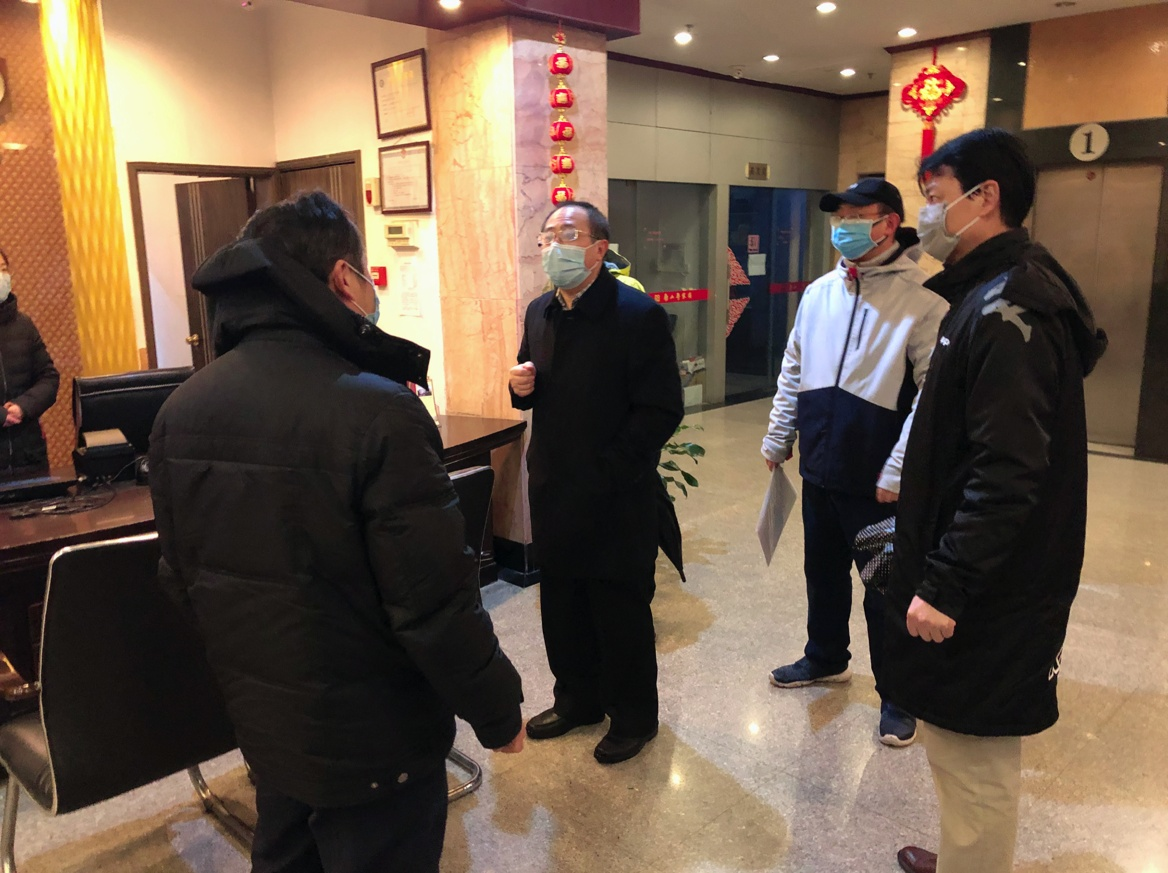correctlyWear: (918, 172, 1005, 260), (308, 237, 381, 336), (537, 216, 611, 293), (821, 204, 901, 262), (1, 261, 16, 297)
